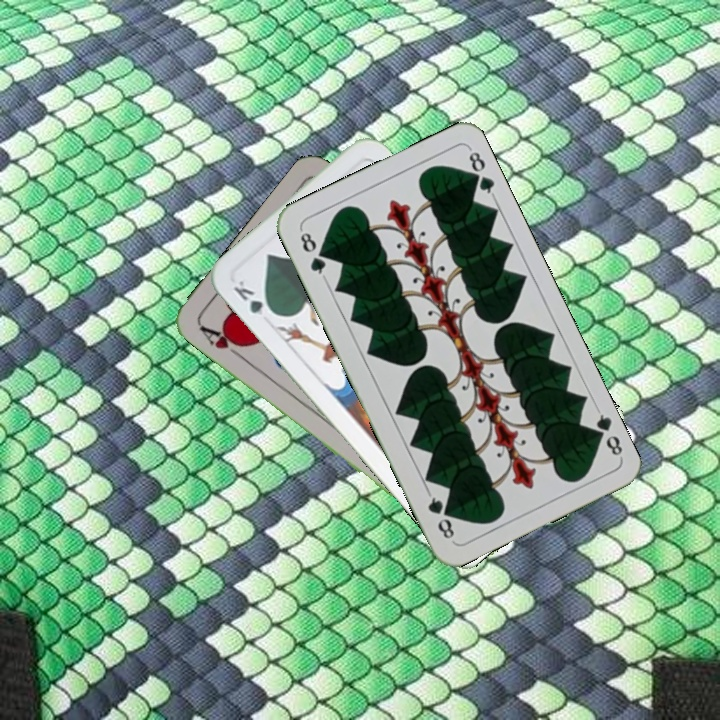G8: (586, 405, 626, 460), (296, 226, 329, 281)
GK: (229, 276, 279, 319)
HA: (195, 321, 249, 362)
